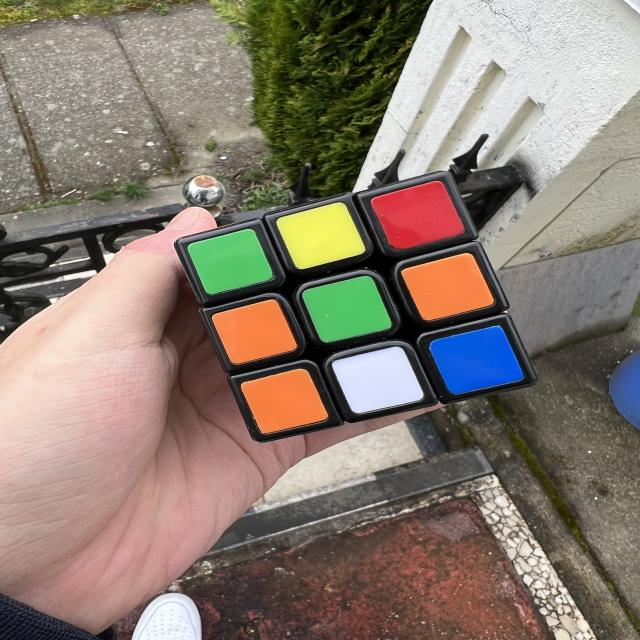blue: (427, 322, 524, 398)
center: (301, 272, 393, 347)
green: (186, 225, 274, 299)
orange: (400, 249, 495, 326), (239, 365, 329, 438), (210, 295, 299, 368)
red: (369, 177, 466, 254)
white: (330, 343, 425, 417)
yellow: (275, 198, 366, 275)
